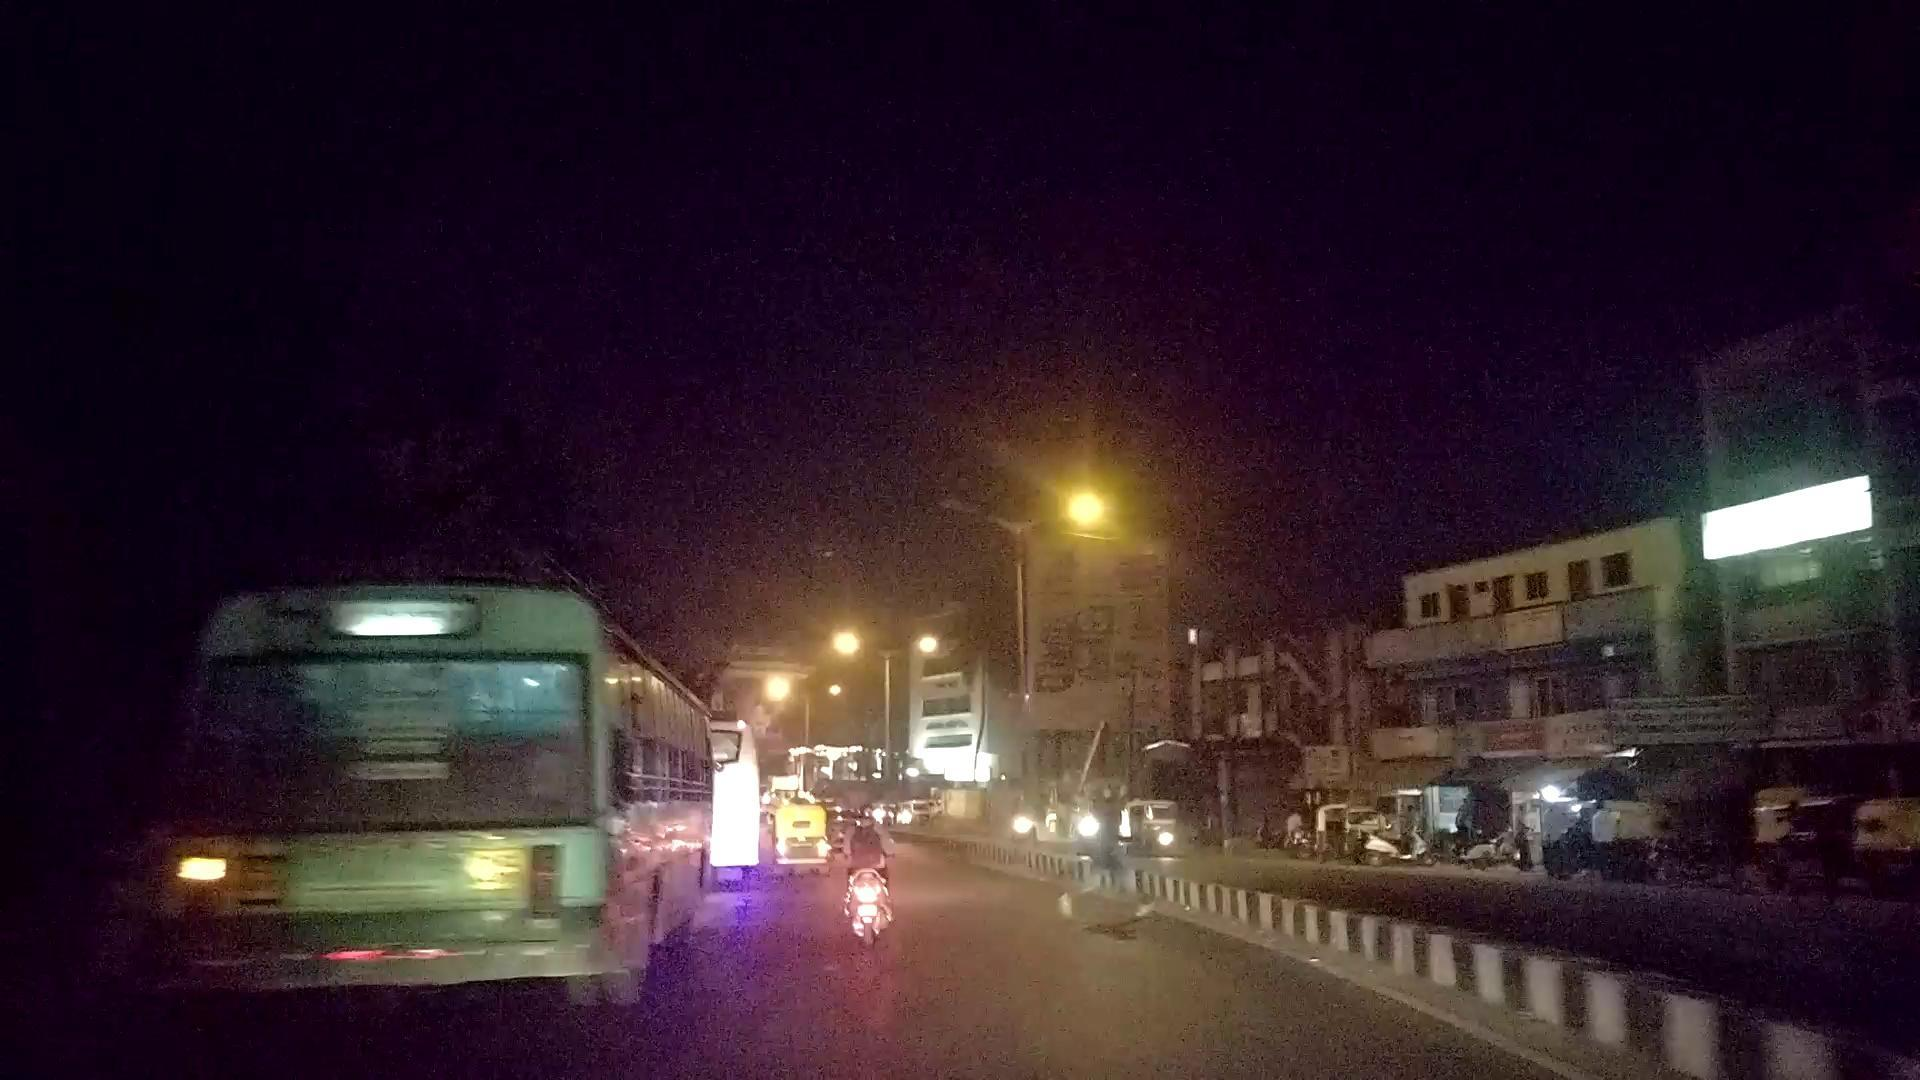on: (760, 363, 1375, 1019)
